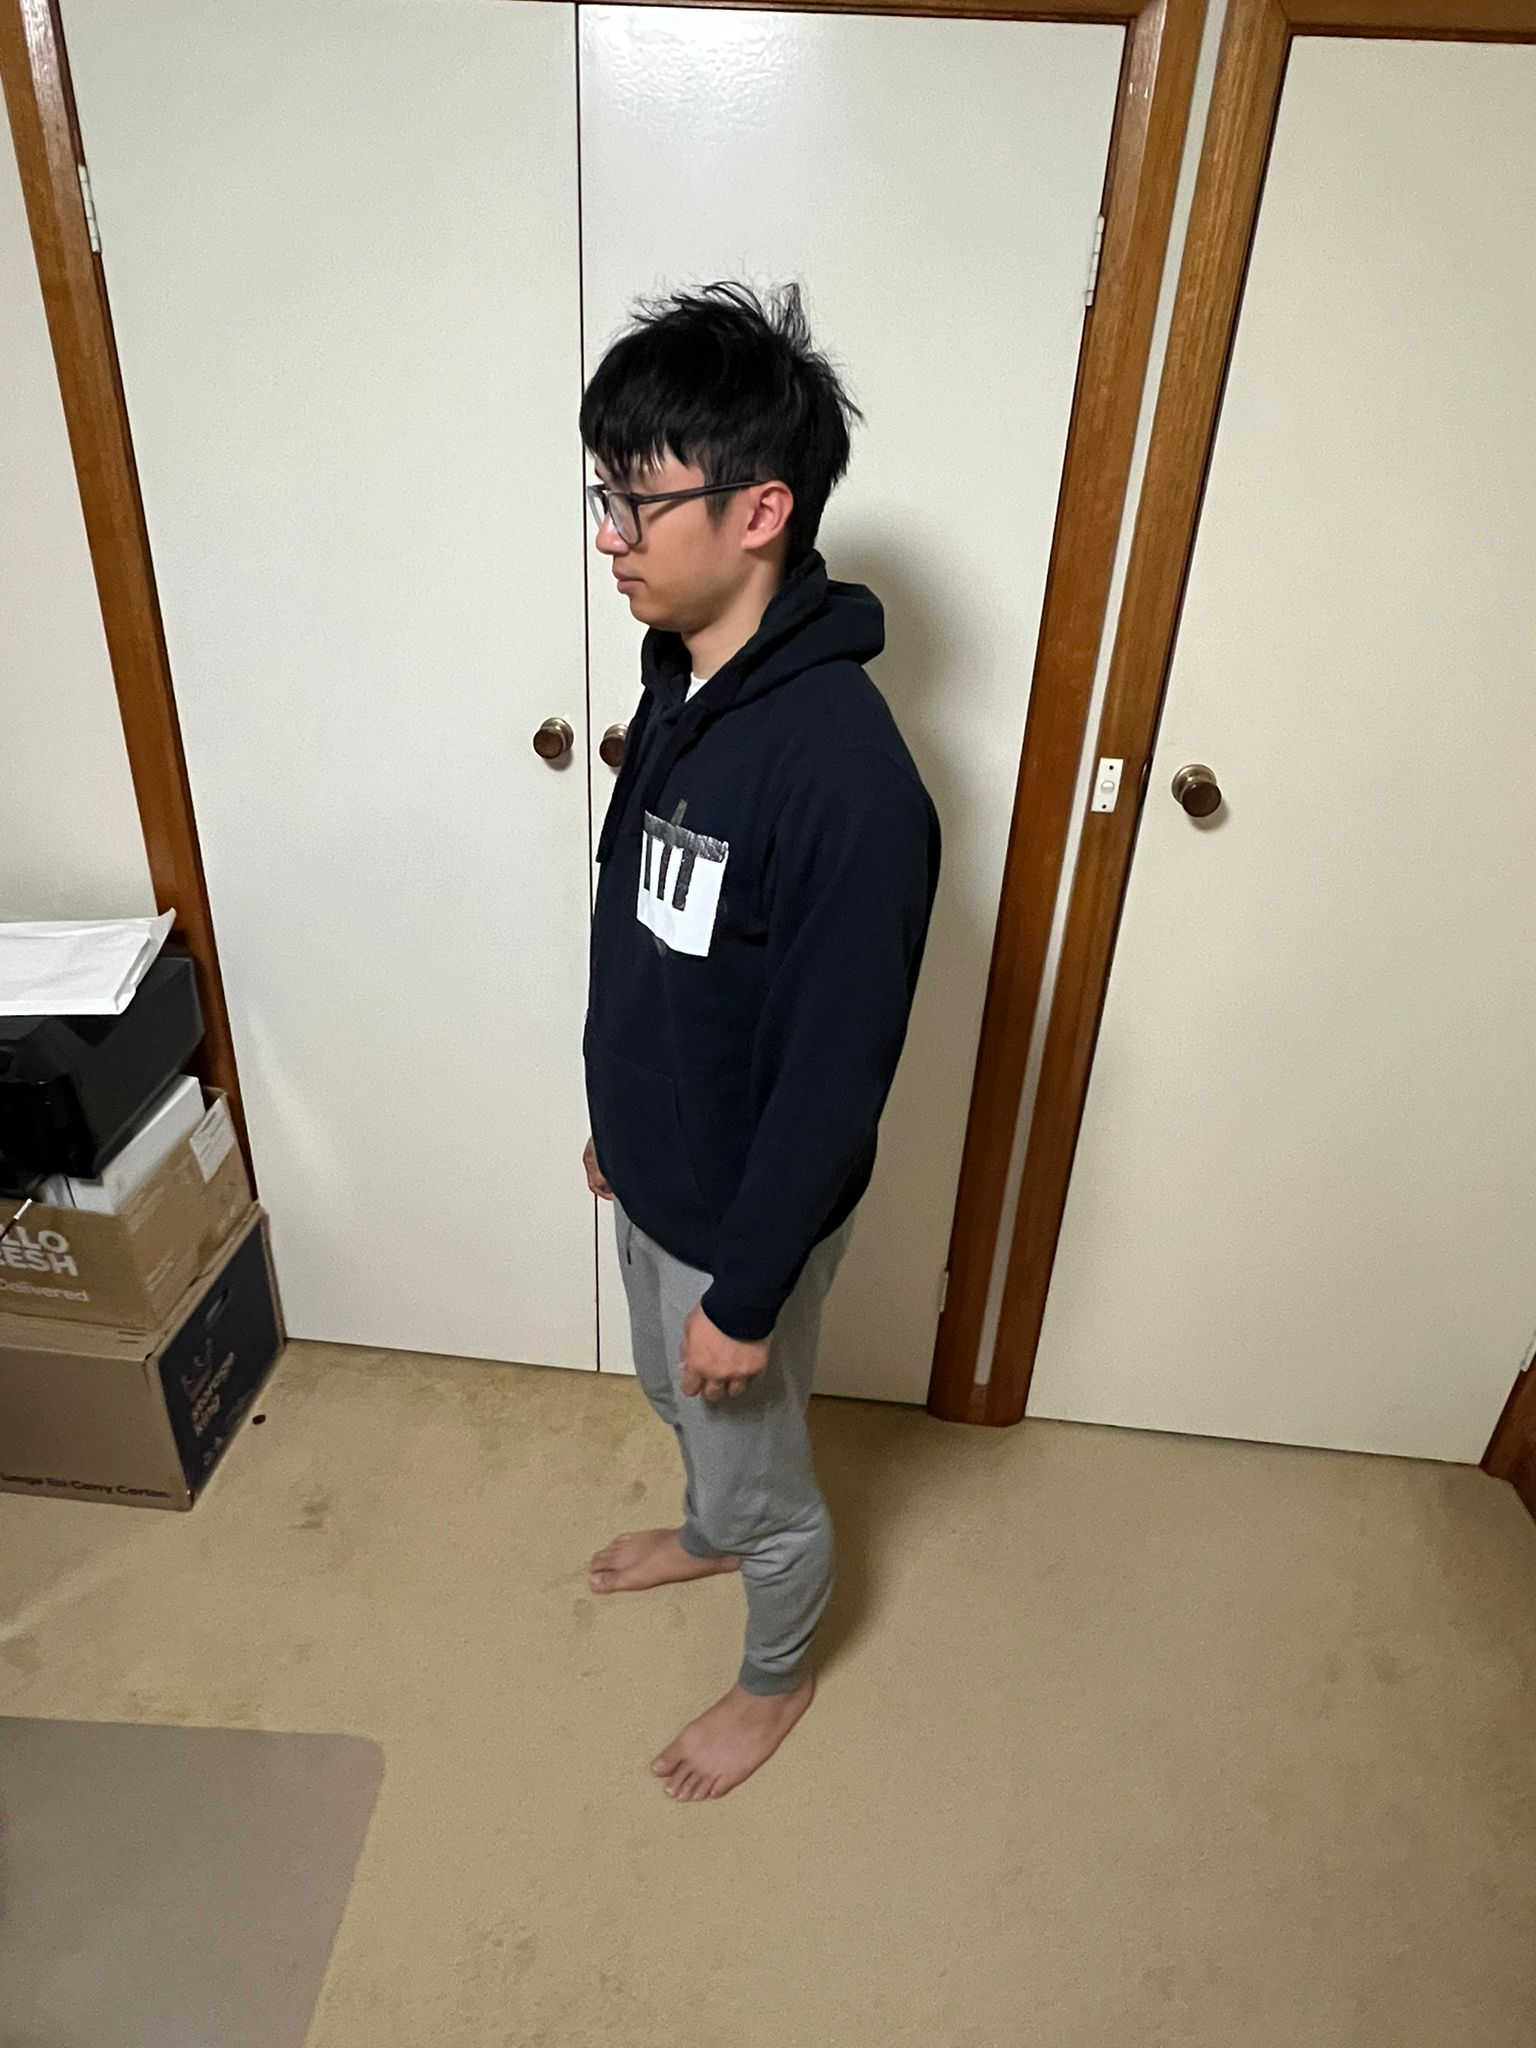Staff: (621, 801, 778, 969)
